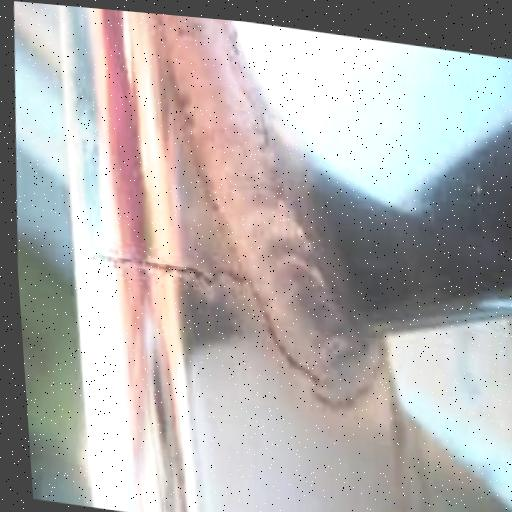crack: (75, 234, 253, 301)
